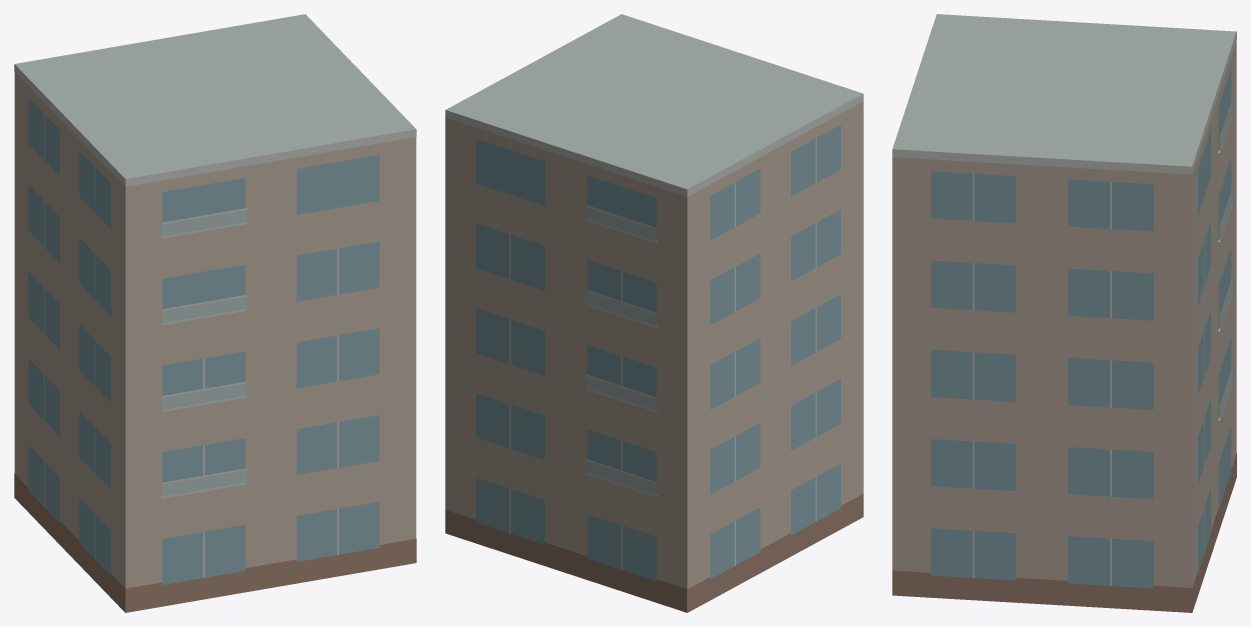
Rendered from survey-upis-32615691.glb.
3 renders of one model, left to right at view 1: azimuth 30°, elevation 25°; view 2: azimuth 150°, elevation 25°; view 3: azimuth 270°, elevation 25°, orthographic. The views are drawn at different scales.
Parts seen in each view (by area): view 1: survey-upis-32615691.tmp; view 2: survey-upis-32615691.tmp; view 3: survey-upis-32615691.tmp.
Boxes of the visible parts, x1=… form: survey-upis-32615691.tmp: x1=14, y1=14, x2=416, y2=612; survey-upis-32615691.tmp: x1=445, y1=14, x2=863, y2=612; survey-upis-32615691.tmp: x1=892, y1=14, x2=1236, y2=612.
Bounding box in the file's own units: 10.06 × 13.7 × 9.59.
